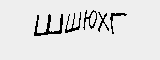Г: (108, 9, 127, 37)
Х: (95, 12, 109, 34)
Ш: (29, 12, 64, 37), (61, 10, 82, 33)
Ю: (81, 7, 98, 34)
